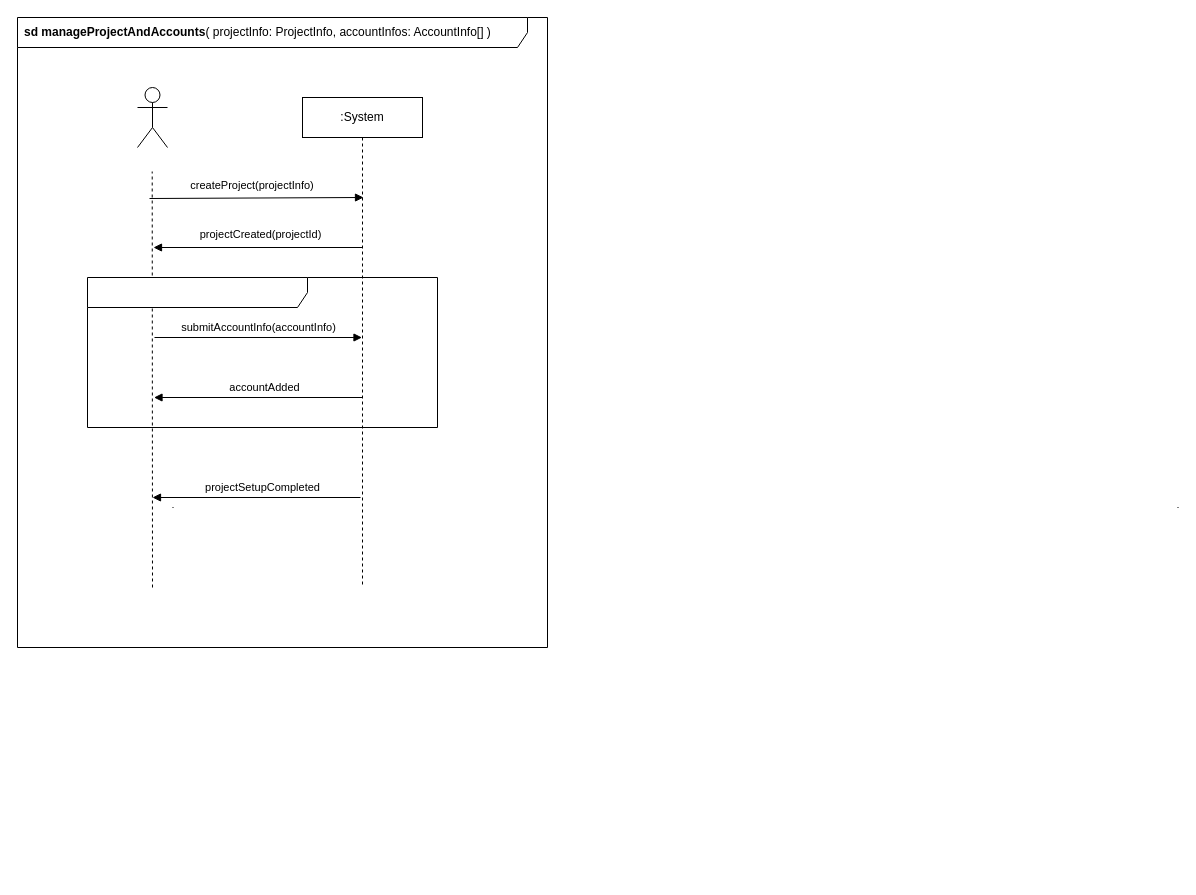
This 1196x895 diagram has some shape labels left out. Each missing label, with the centre of its shape:
": Admin" belongs at point 152,117.
"loop [계정 정보가 남아있는 동안]" belongs at point 262,352.
